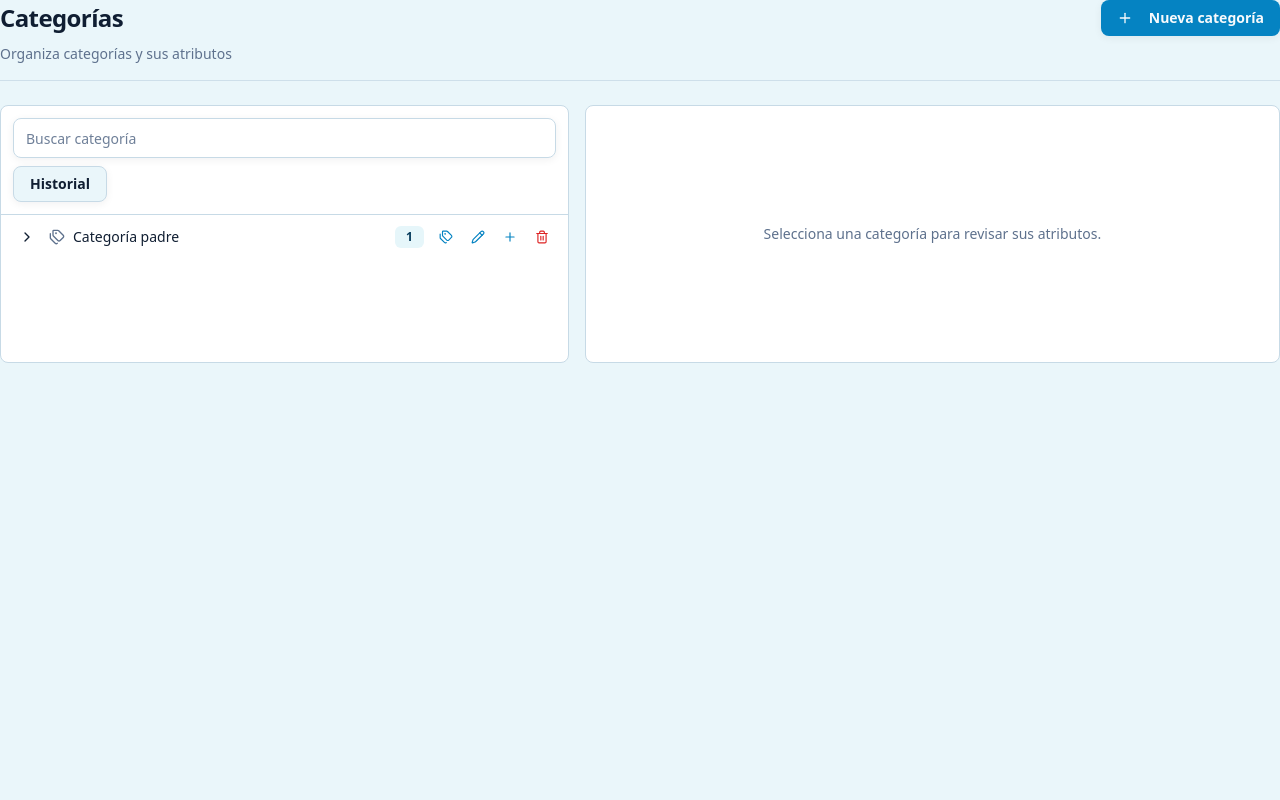
Test: CategoriasPage › muestra ciclo de un atributo inactivo y ofrece reactivar solo con snapshot disponible
The image size is (1280, 800).
Click the button named "Expandir Categoría padre" at (27, 237), box [13,223,41,251]
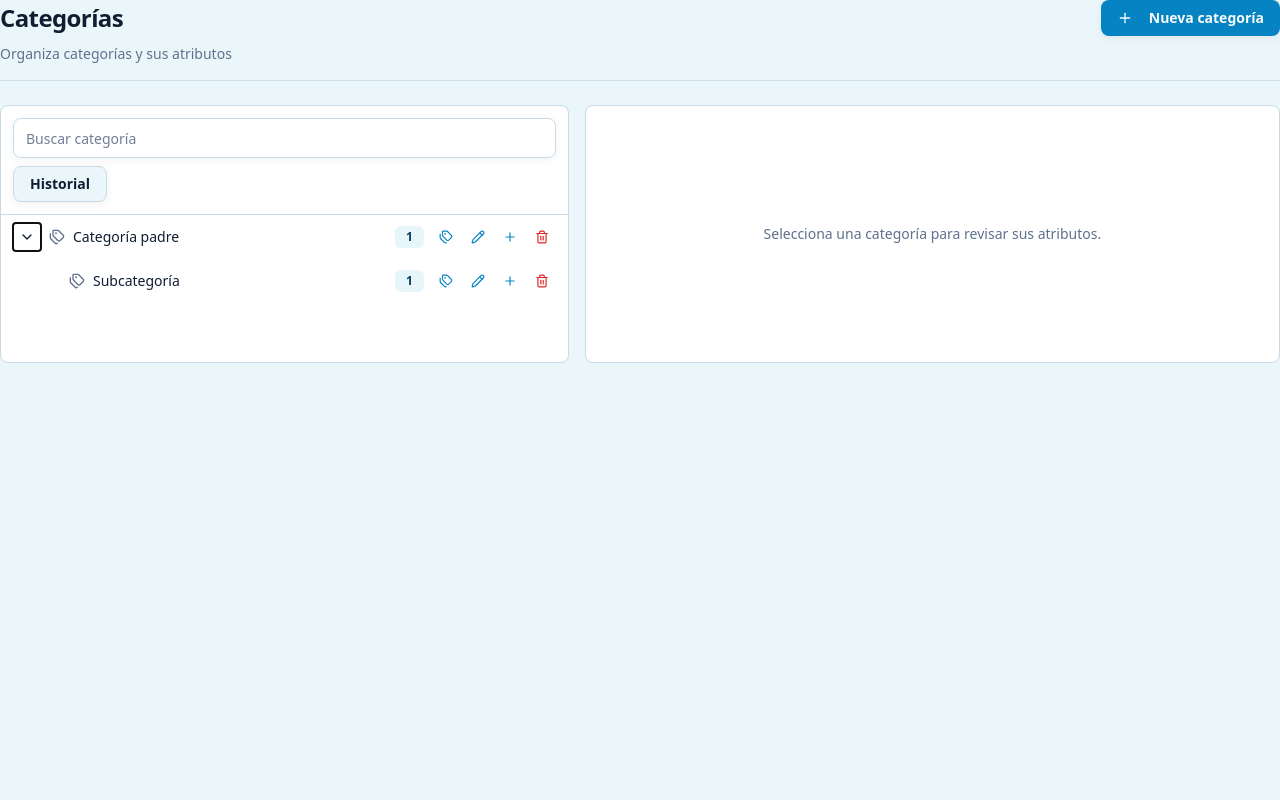
Click the button "Subcategoría" at (136, 280), box [93,271,387,291]
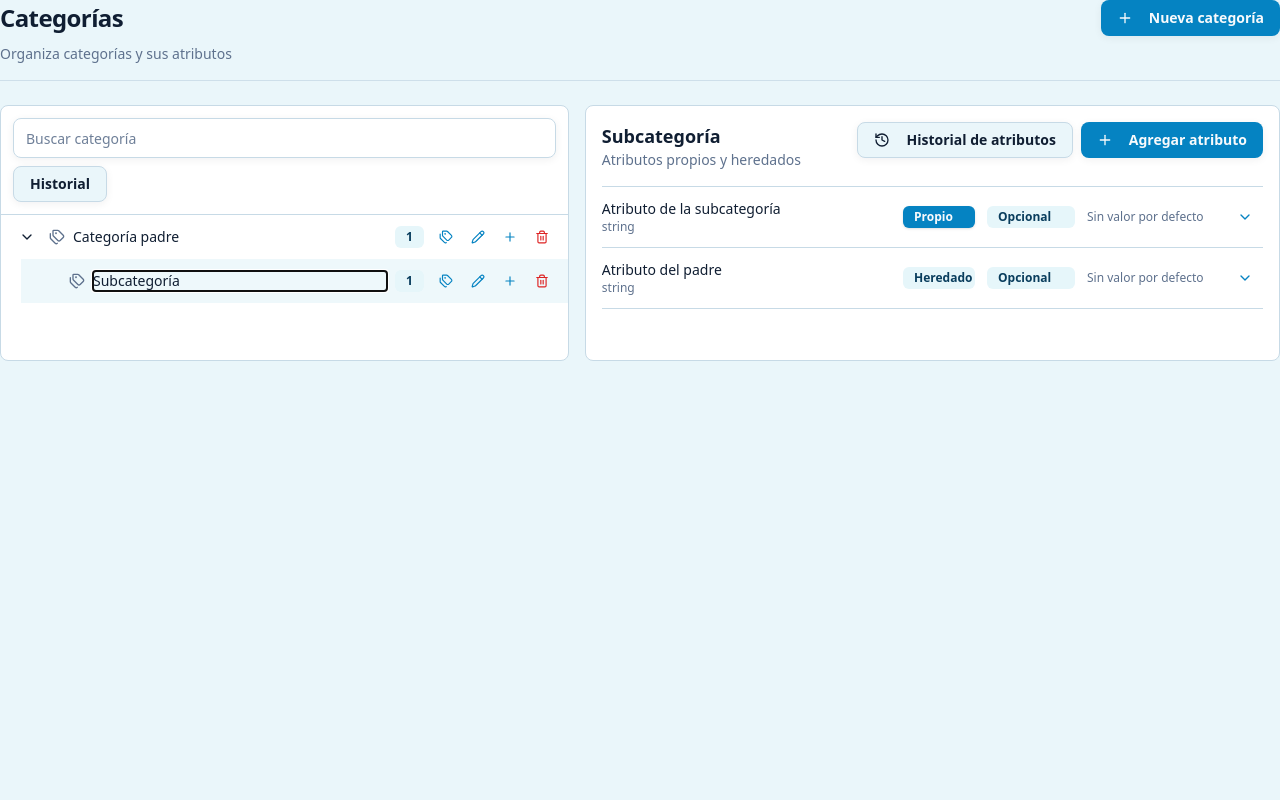
Click the button "Historial de atributos" at (965, 140), box [858,122,1073,158]
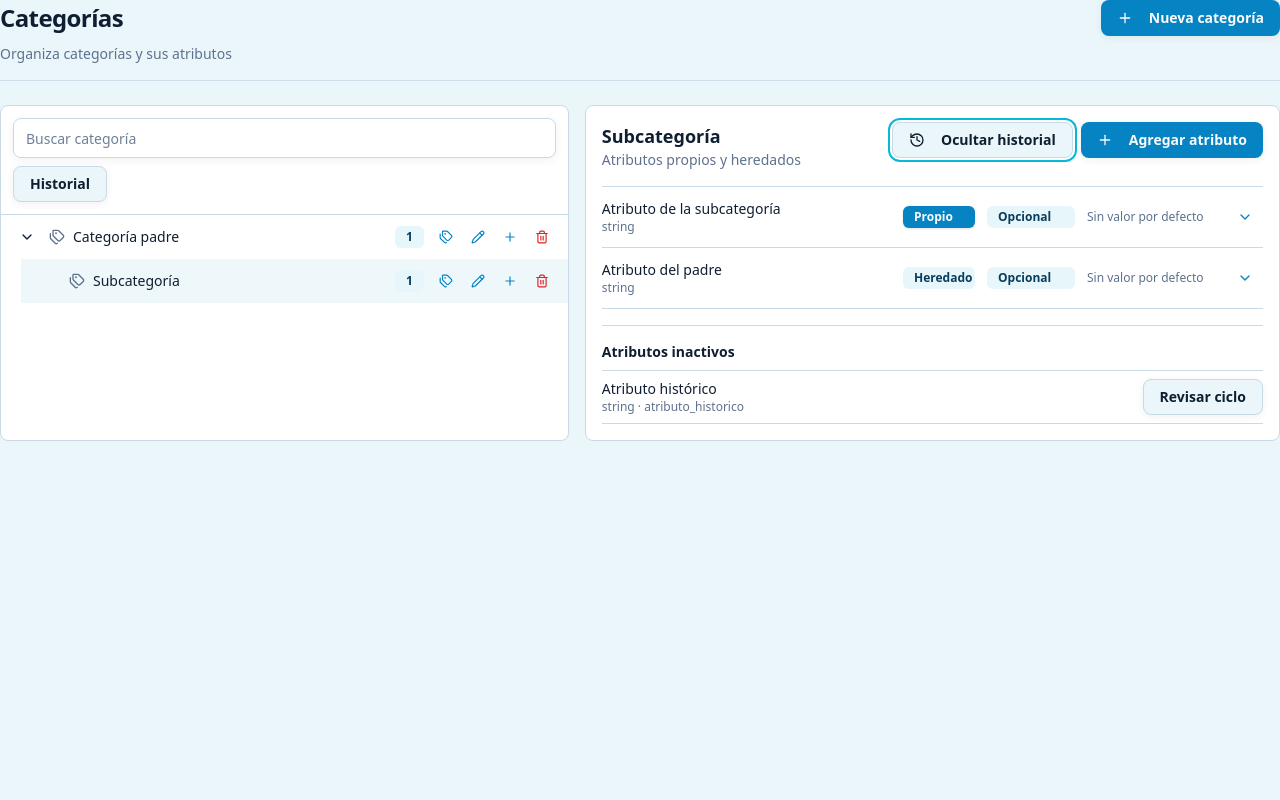
Click the button "Revisar ciclo" at (1203, 397), box [1142,379,1263,415]
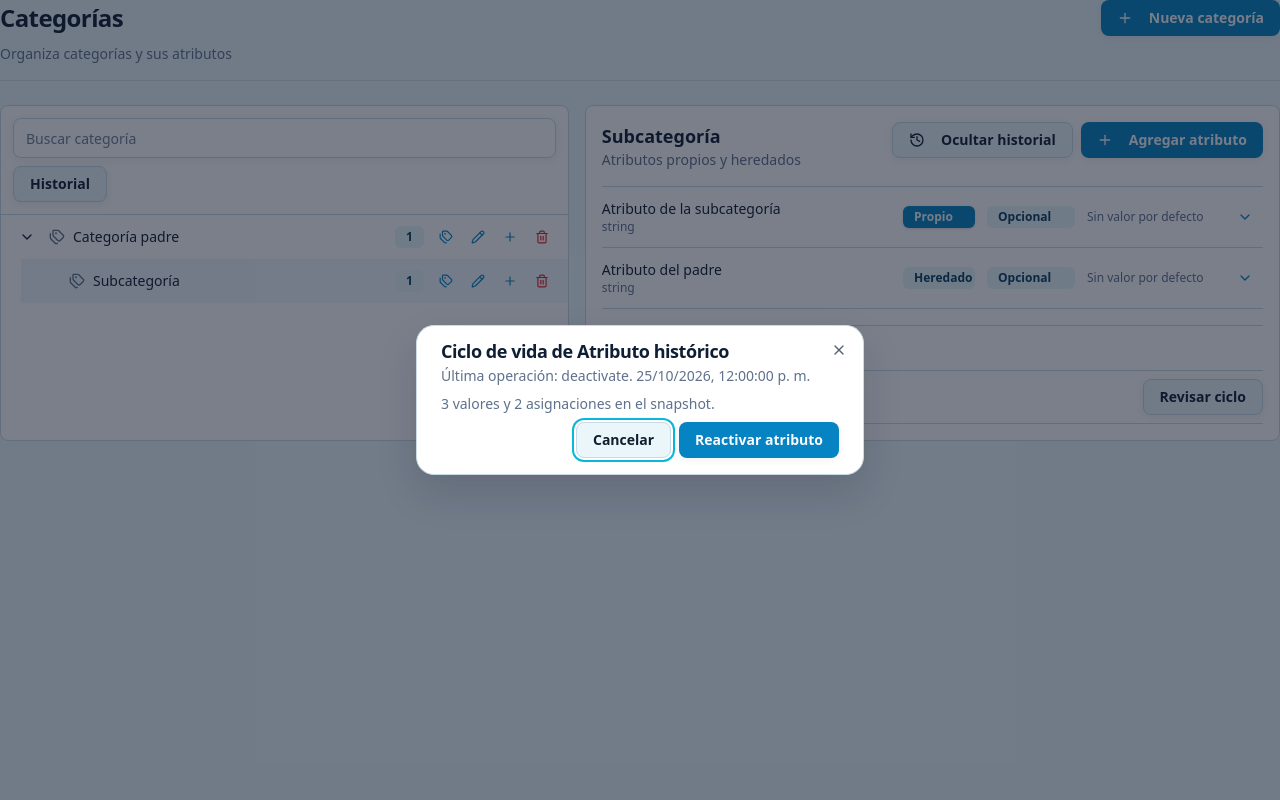
Check: the text "Última operación: deactivate. 25/10/2026, 12:00:00 p. m." is shown, box [441,366,839,386]
Check: the text "3 valores y 2 asignaciones en el snapshot." is shown, box [441,394,715,413]
Click the button "Reactivar atributo" at (759, 440), box [679,422,839,458]
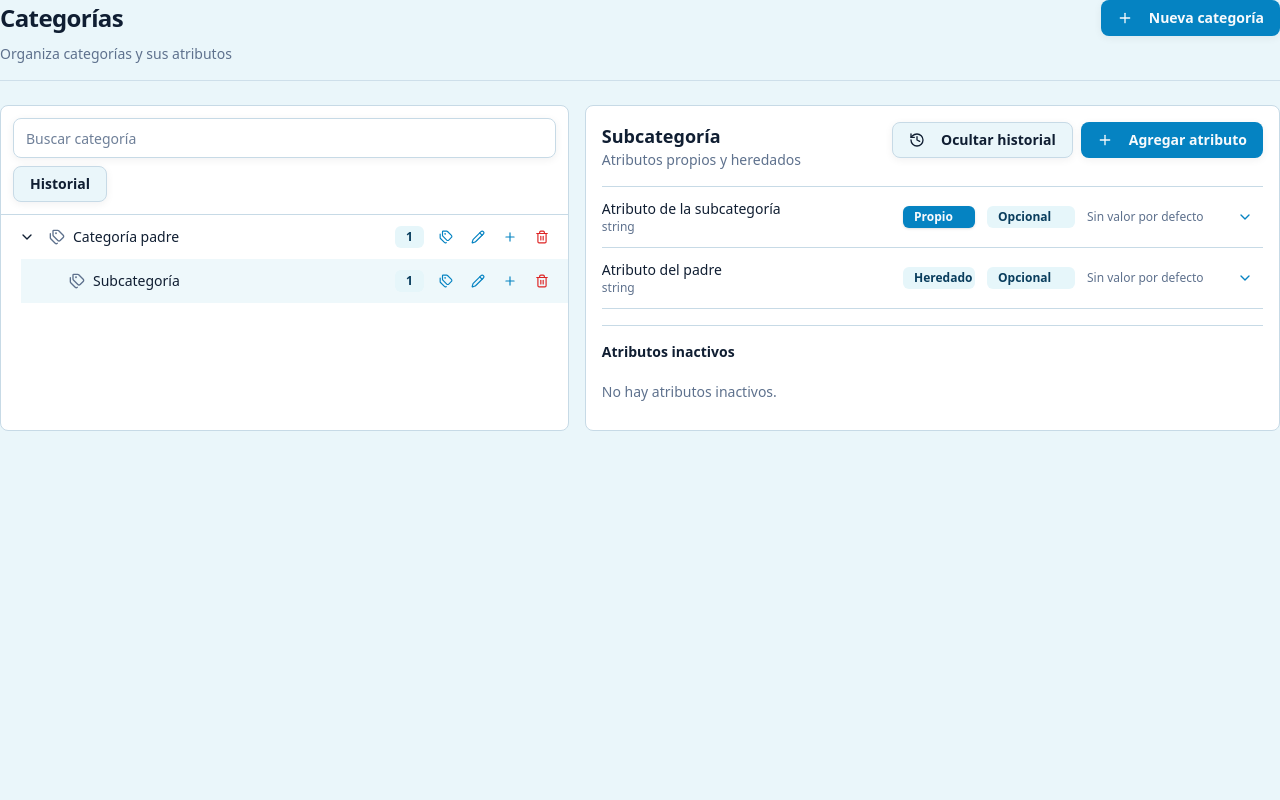
Check: the text "Atributo histórico" is gone
